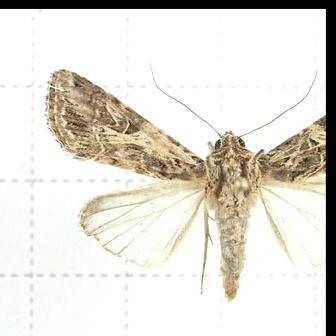Spodoptera litura: (44, 61, 324, 302)
